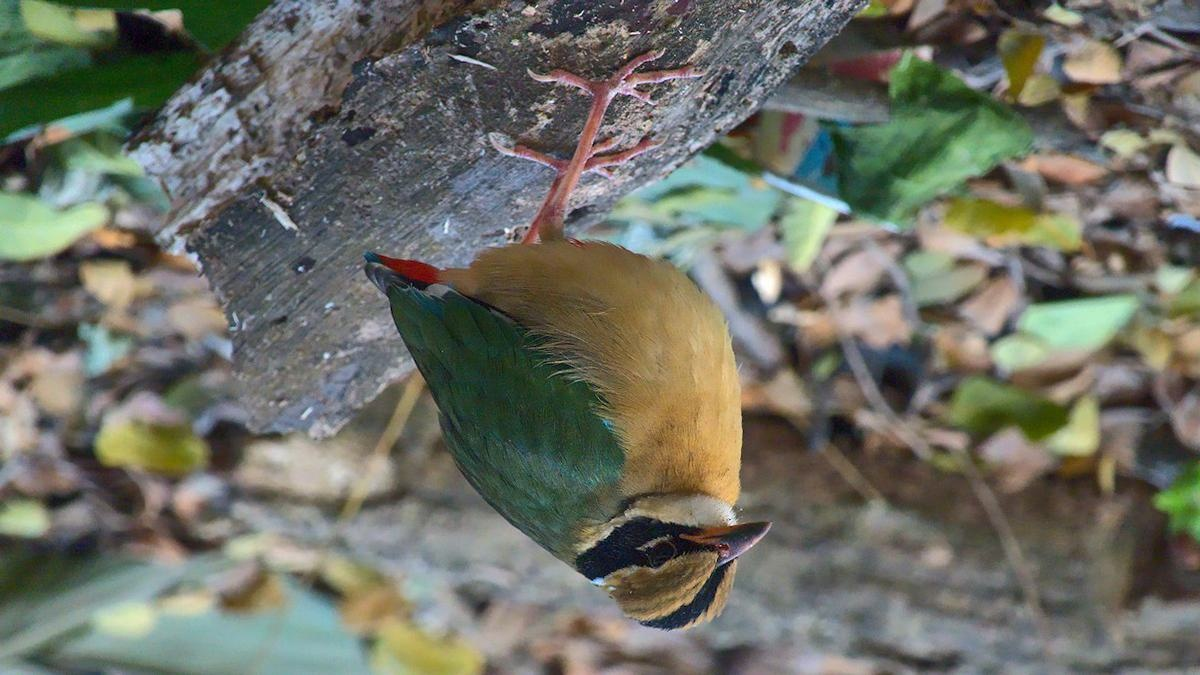pitta: (350, 145, 805, 638)
